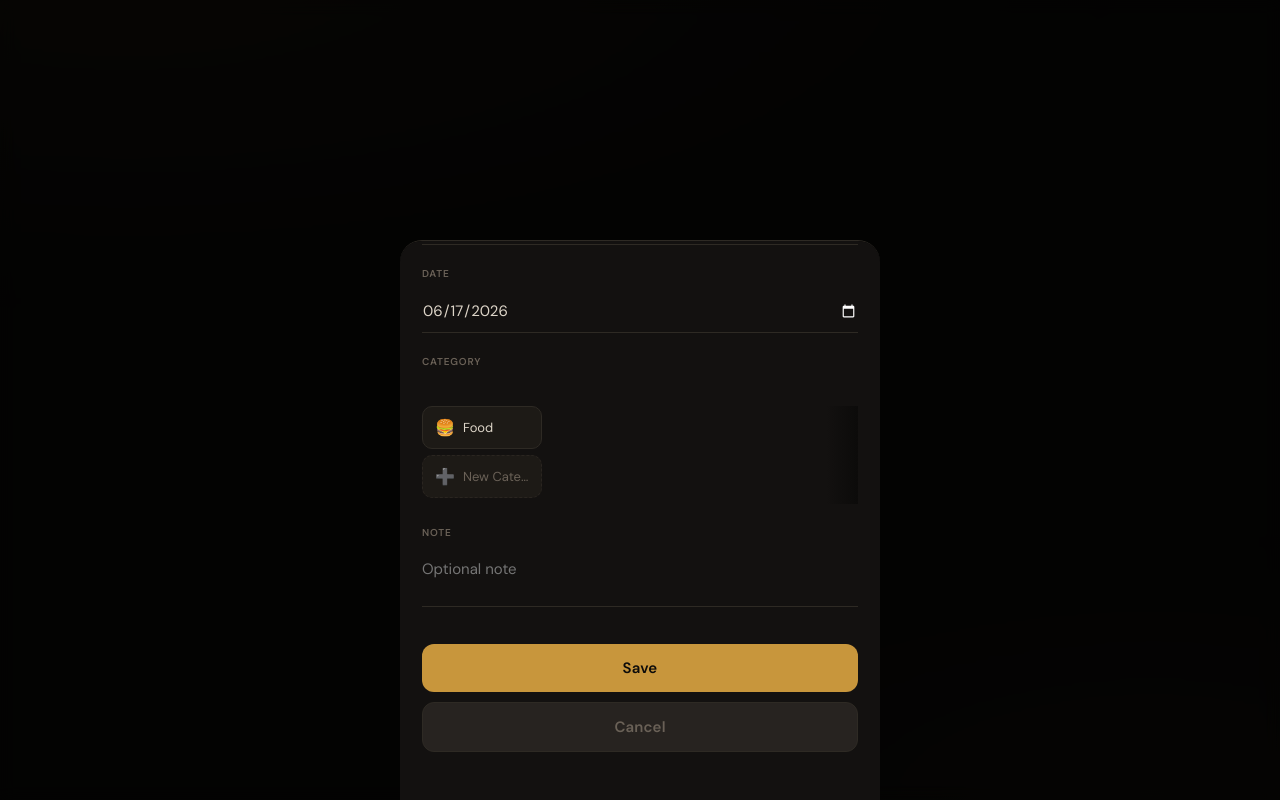
Test: ExpenseModal › shows an amount error and does not save when amount is missing
(page scrolled)
Step 1. Click the button "Save" → point(640, 668), box [422, 644, 858, 692]
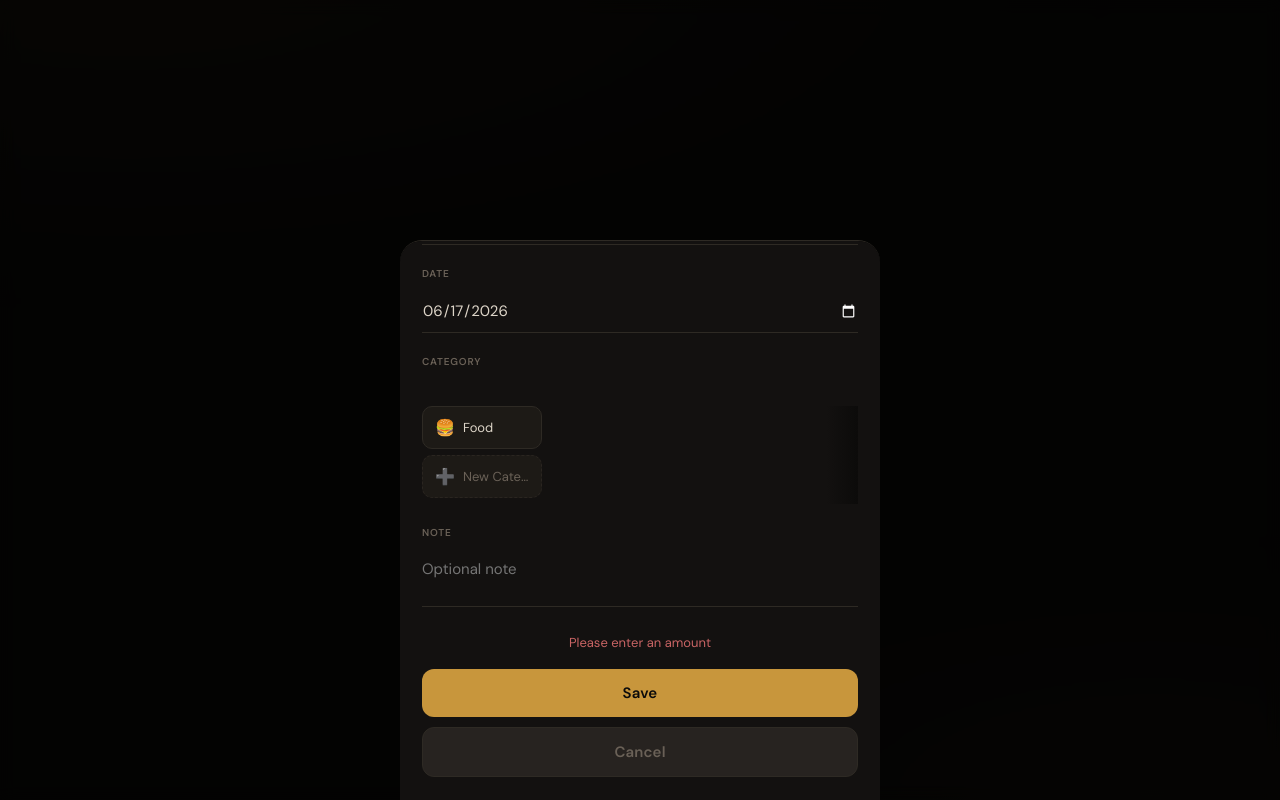
Result: the text "Please enter an amount" is shown at [569, 634, 711, 651]
